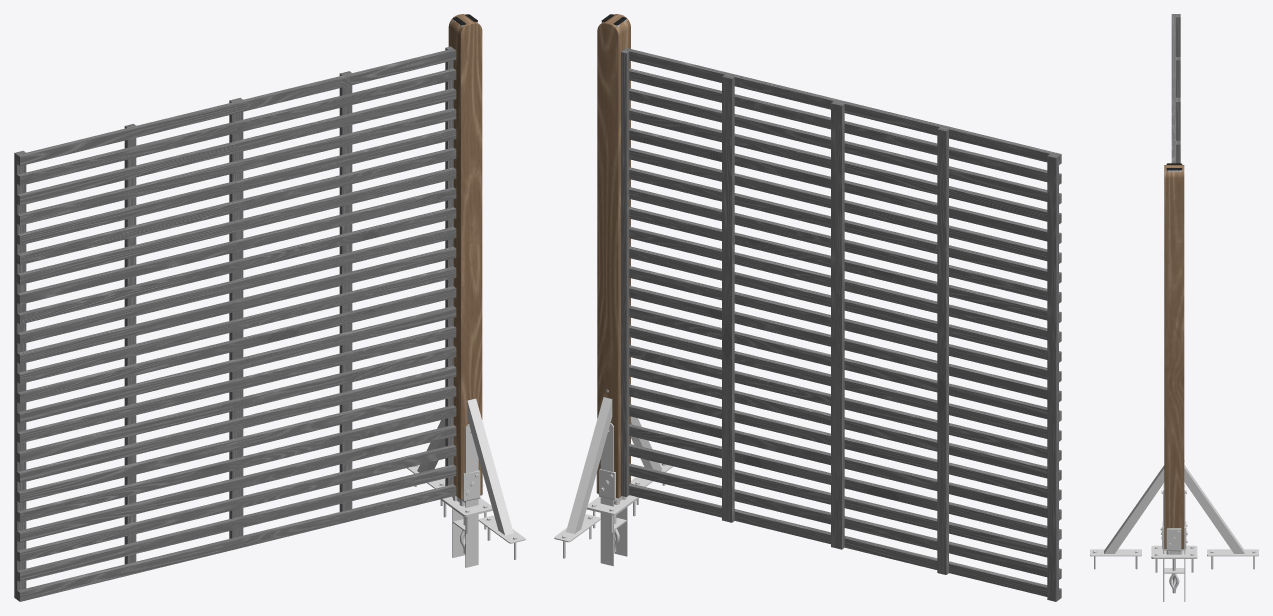
The model's file is reboCombo7.glb.
3 views of the same model, side by side, from view 1: azimuth 30°, elevation 25°; view 2: azimuth 150°, elevation 25°; view 3: azimuth 270°, elevation 25° (orthographic). The views are drawn at different scales.
Parts seen in each view (by area): view 1: REBO180180, REBO90180, stubić Sina, sturmanker-right-front, Nosač Stubića Sina; view 2: REBO180180, REBO90180, stubić Sina, sturmanker-right-rear, Nosač Stubića Sina; view 3: stubić Sina, sturmanker-right-rear, sturmanker-right-front, REBO180180, REBO90180, post-root-right, Nosač Stubića Sina, NosacBoth.
Part boxes in pixels (left/top/right/bottom): REBO180180: left=14, top=46, right=456, bottom=601; REBO90180: left=232, top=47, right=456, bottom=547; stubić Sina: left=448, top=14, right=482, bottom=499; sturmanker-right-front: left=467, top=398, right=525, bottom=559; Nosač Stubića Sina: left=452, top=424, right=478, bottom=567; REBO180180: left=621, top=50, right=1061, bottom=601; REBO90180: left=621, top=48, right=844, bottom=548; stubić Sina: left=597, top=14, right=630, bottom=498; sturmanker-right-rear: left=554, top=389, right=612, bottom=558; Nosač Stubića Sina: left=600, top=423, right=627, bottom=566; stubić Sina: left=1164, top=165, right=1184, bottom=548; sturmanker-right-rear: left=1184, top=460, right=1258, bottom=569; sturmanker-right-front: left=1090, top=465, right=1164, bottom=569; REBO180180: left=1171, top=14, right=1180, bottom=161; REBO90180: left=1171, top=98, right=1180, bottom=163; post-root-right: left=1151, top=545, right=1197, bottom=572; Nosač Stubića Sina: left=1161, top=484, right=1186, bottom=601; NosacBoth: left=1166, top=528, right=1181, bottom=586.
Bounding box in the file's own units: 1.91 × 2.14 × 0.7571.
10 materials, 2 textured.
